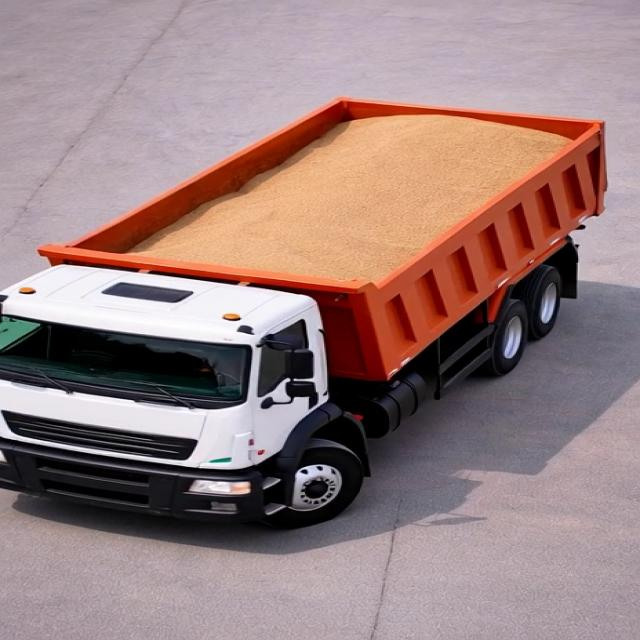trailer: (44, 96, 610, 296)
truck: (0, 88, 639, 529)
